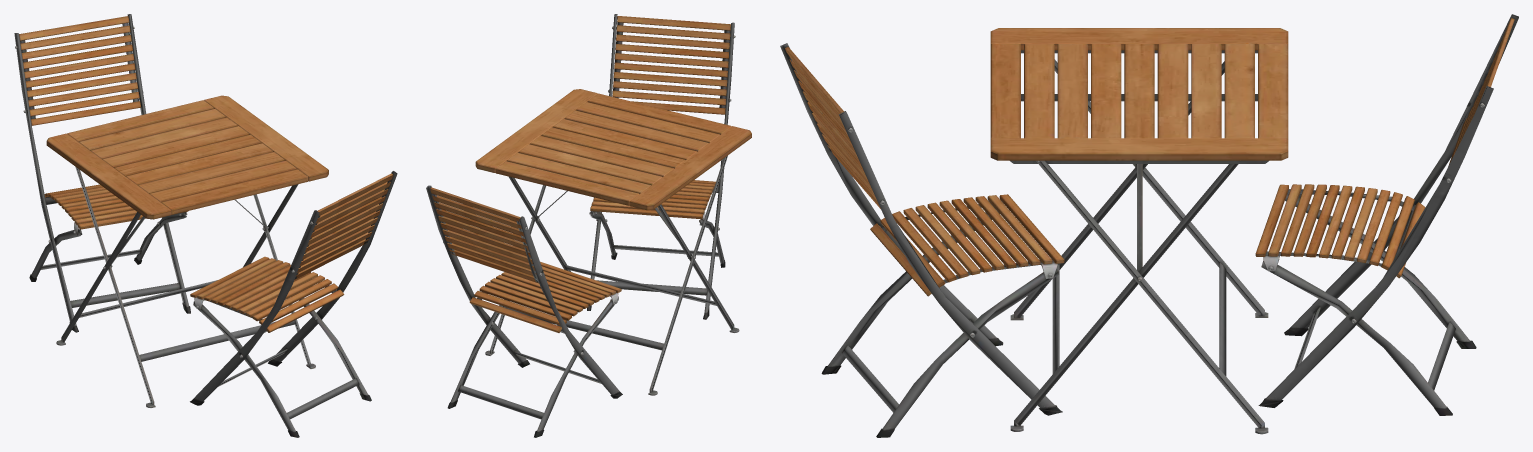
Rendered from ph-outdoor_table_chair_set_01.glb.
The picture shows the model from 3 angles, left to right: view 1: azimuth 30°, elevation 25°; view 2: azimuth 150°, elevation 25°; view 3: azimuth 270°, elevation 25°; orthographic projection. The views are drawn at different scales.
Visible parts, largest first — view 1: outdoor_table_chair_set_01_chair_01, outdoor_table_chair_set_01_table; view 2: outdoor_table_chair_set_01_chair_01, outdoor_table_chair_set_01_table; view 3: outdoor_table_chair_set_01_table, outdoor_table_chair_set_01_chair_01.
Boxes of the visible parts, left/top/right/bottom form: outdoor_table_chair_set_01_chair_01: left=14, top=14, right=397, bottom=437; outdoor_table_chair_set_01_table: left=46, top=95, right=328, bottom=407; outdoor_table_chair_set_01_chair_01: left=426, top=14, right=735, bottom=437; outdoor_table_chair_set_01_table: left=475, top=89, right=751, bottom=395; outdoor_table_chair_set_01_table: left=990, top=28, right=1288, bottom=434; outdoor_table_chair_set_01_chair_01: left=780, top=14, right=1518, bottom=437.
Bounding box in the file's own units: 0.7416 × 0.8558 × 1.72.
Materials: 2 (2 with a texture image).
